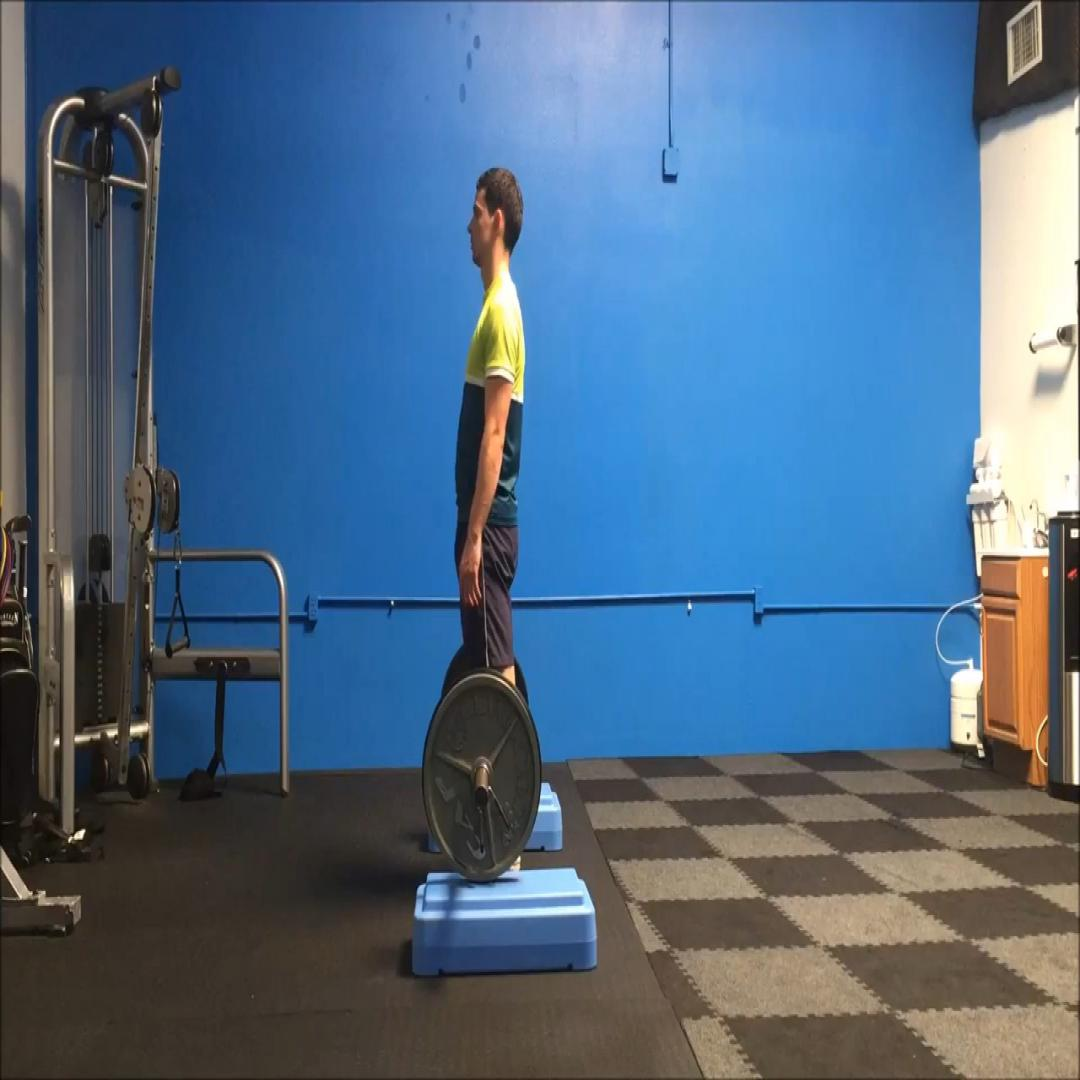Bar: (474, 783, 488, 810)
Barbell: (421, 669, 542, 883)
